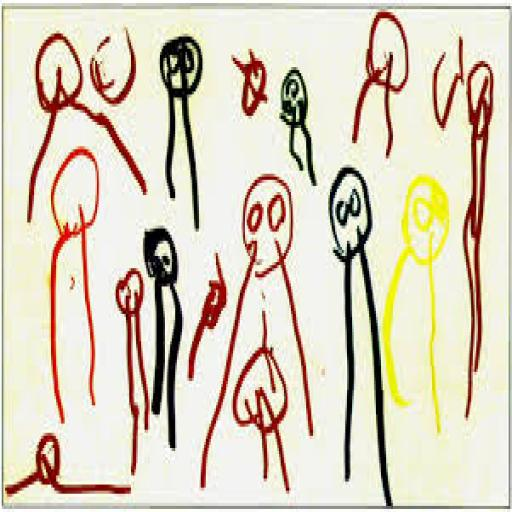person: (197, 163, 318, 496), (433, 27, 509, 441), (328, 156, 399, 512), (30, 20, 154, 223), (37, 142, 119, 425), (384, 173, 454, 455), (223, 336, 313, 510), (139, 226, 193, 471), (341, 6, 424, 158), (154, 20, 212, 234), (2, 425, 136, 511), (114, 263, 158, 458), (276, 56, 322, 210), (190, 252, 236, 386)
